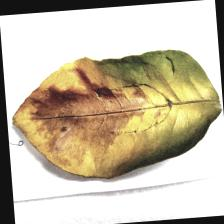black spot: (27, 82, 141, 148)
